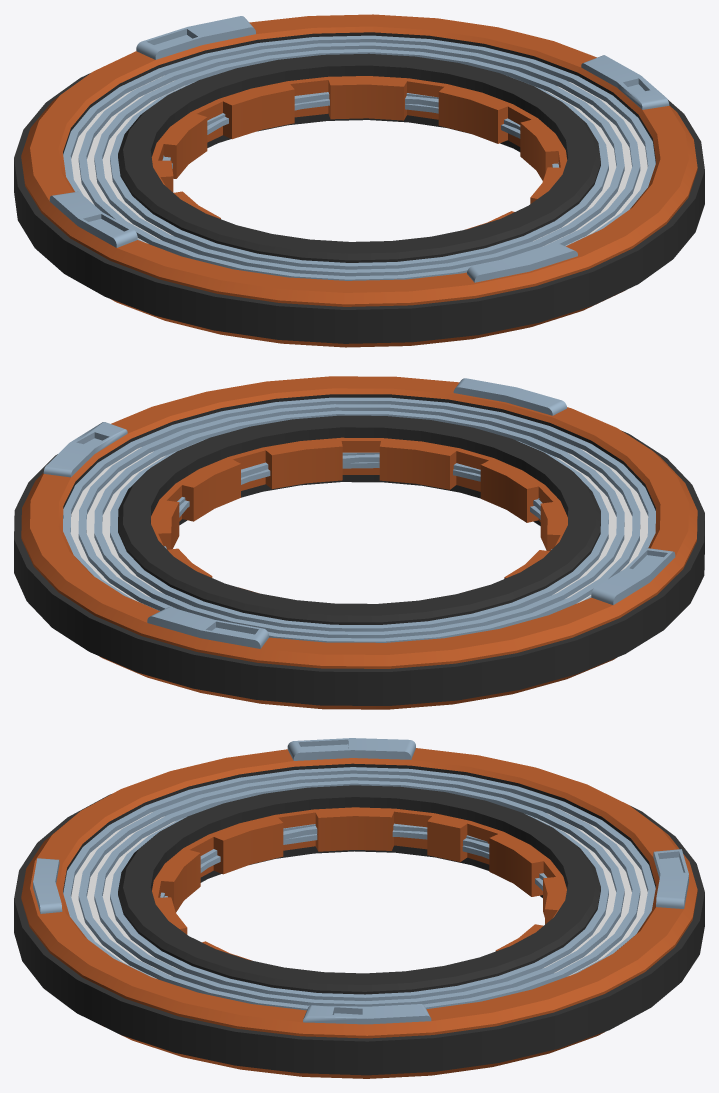
Rendered from door_iris.fbx.
The picture shows the model from 3 angles, top to bottom: view 1: azimuth 30°, elevation 25°; view 2: azimuth 150°, elevation 25°; view 3: azimuth 270°, elevation 25°; orthographic projection.
Visible parts, largest first — view 1: Circle, Circle.005, Circle.004; view 2: Circle, Circle.007, Circle.001; view 3: Circle, Circle.003, Circle.002.
Boxes of the visible parts, x1,y1,x2,y2 form: Circle: [14, 14, 704, 347]; Circle.005: [294, 96, 558, 163]; Circle.004: [171, 92, 438, 168]; Circle: [14, 376, 704, 709]; Circle.007: [241, 454, 540, 500]; Circle.001: [342, 462, 542, 510]; Circle: [14, 738, 704, 1078]; Circle.003: [283, 830, 546, 879]; Circle.002: [200, 823, 487, 872].
Size of the model in its own units: 200 by 19.92 by 200.
